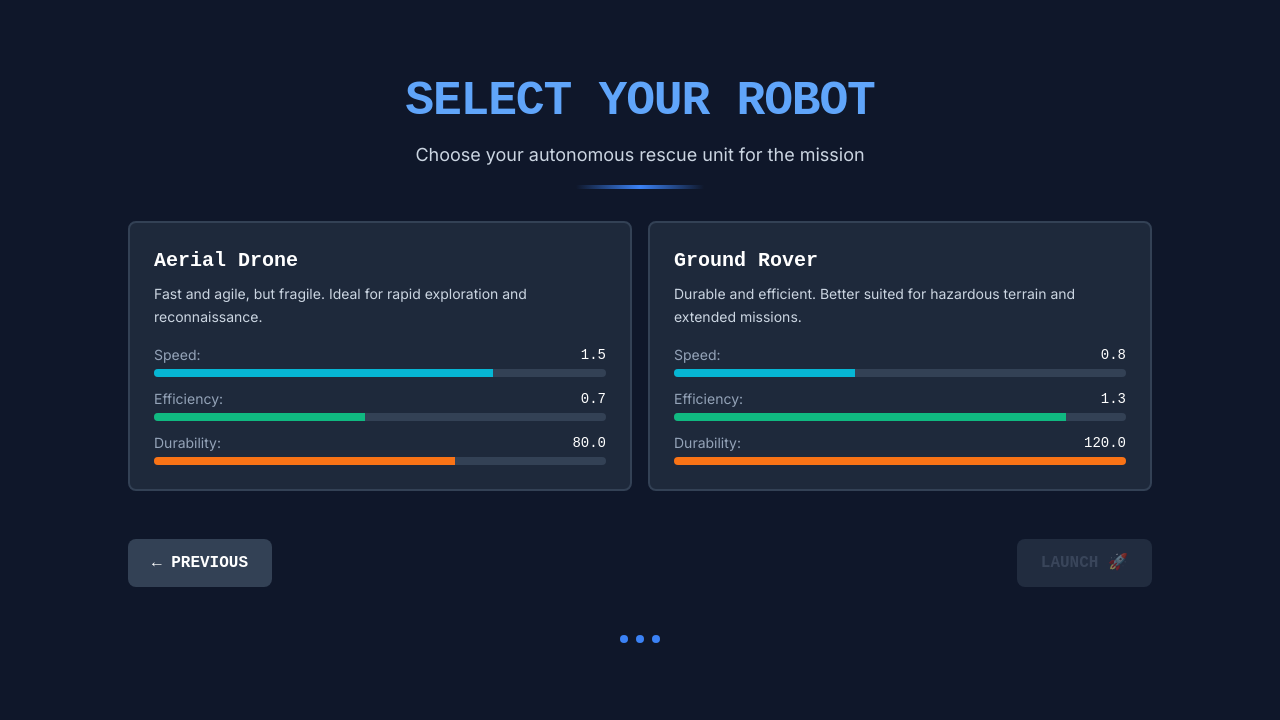
Test: RobotStep › should hide validation message when a robot is selected
Trigger validation message
What coordinates should you click on to do the following:
click the button "LAUNCH 🚀"
I would click on:
 (1084, 563)
Its box is [1017, 539, 1152, 587].
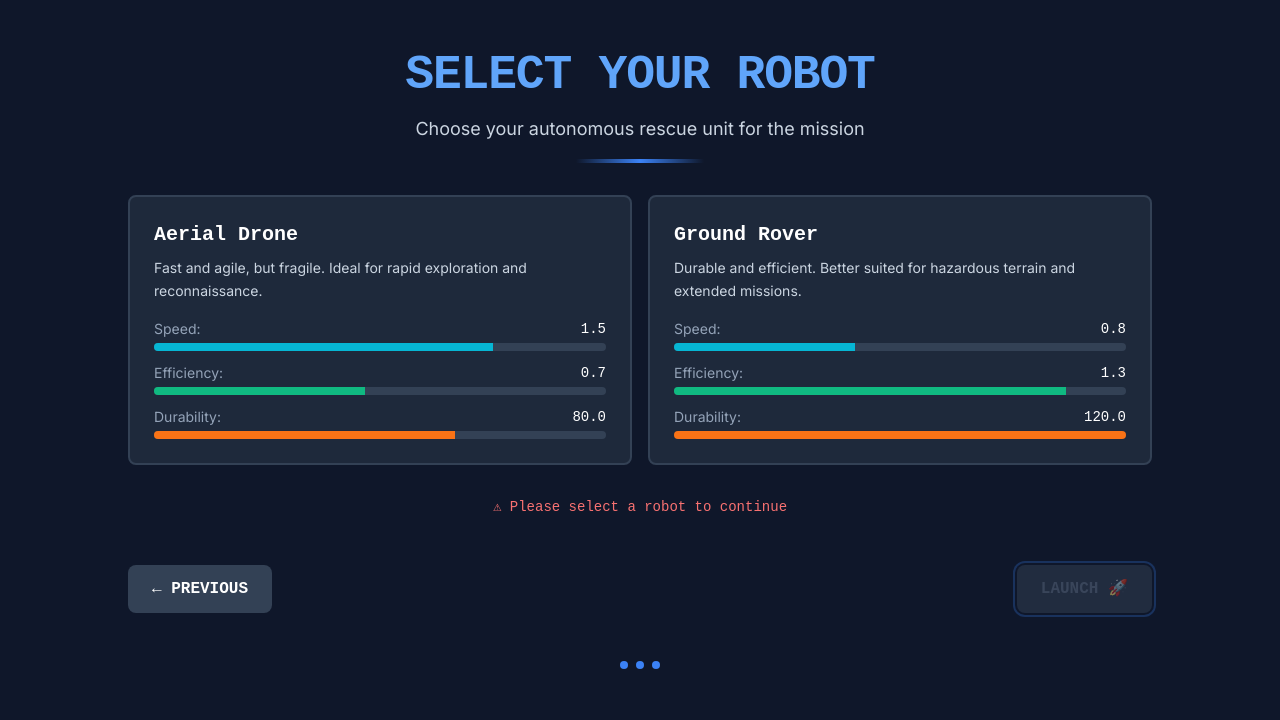
expect the text "⚠ Please select a robot to continue" is shown: met, box [493, 499, 787, 515]
Select a robot
What coordinates should you click on to do the following:
click the text "Aerial Drone"
I would click on:
 (380, 330)
Its box is [128, 195, 632, 465].
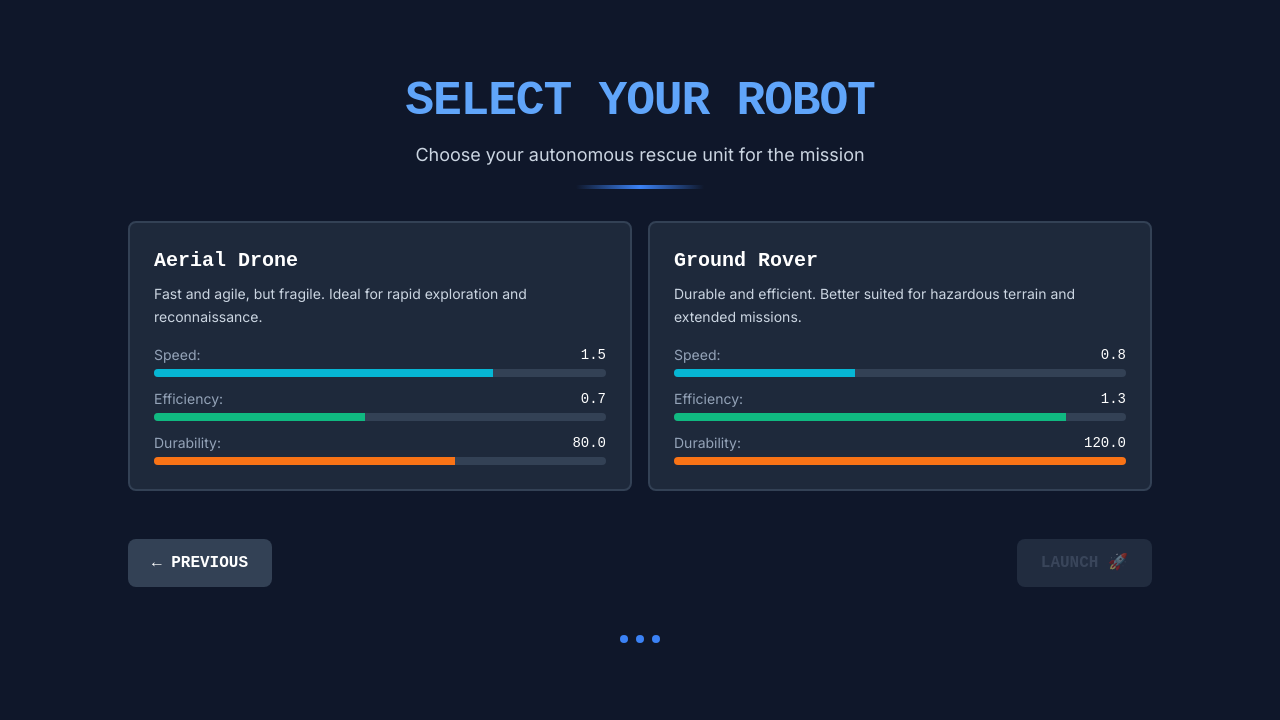
expect the text "Please select a robot to continue" is gone: met
